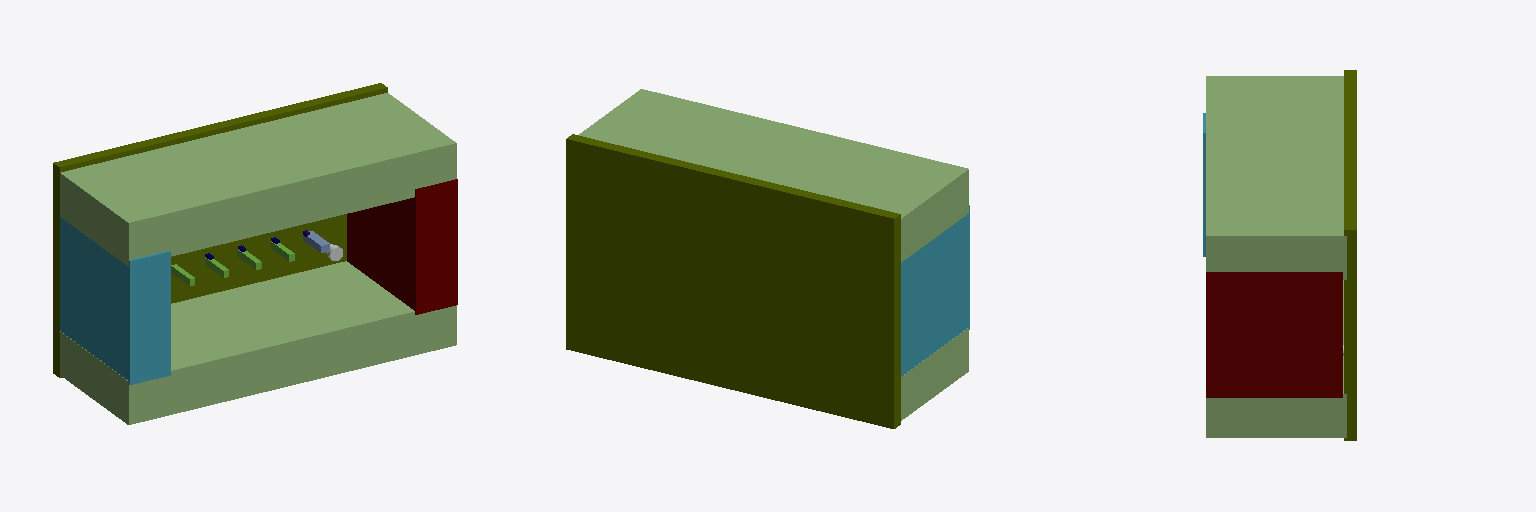
File: sponza_ph.obj
The picture shows the model from 3 angles: view 1: azimuth 30°, elevation 25°; view 2: azimuth 150°, elevation 25°; view 3: azimuth 270°, elevation 25°; orthographic projection.
Parts seen in each view (by area): view 1: Box003, Box002, Box005, Box014, Box004; view 2: Box014, Box003, Box005, Box002; view 3: Box003, Box004, Box002, Box014.
Boxes of the visible parts, <box> form: Box003: <box>60,93,456,266</box>; Box002: <box>60,261,456,424</box>; Box005: <box>60,217,170,384</box>; Box014: <box>53,83,387,377</box>; Box004: <box>347,179,457,314</box>; Box014: <box>566,134,900,428</box>; Box003: <box>579,89,968,262</box>; Box005: <box>901,205,969,376</box>; Box002: <box>901,328,968,420</box>; Box003: <box>1206,76,1346,279</box>; Box004: <box>1206,272,1342,397</box>; Box002: <box>1206,280,1346,437</box>; Box014: <box>1344,70,1356,440</box>.
Size of the model in its own units: 91.54 by 55.97 by 36.89.